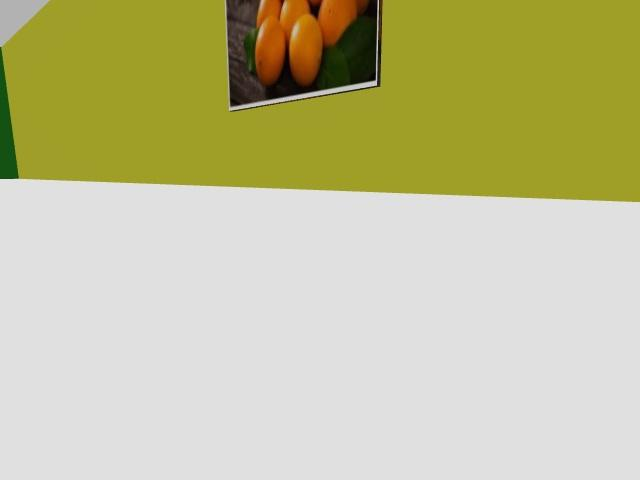orange: (289, 14, 322, 86), (255, 16, 285, 86), (318, 0, 356, 46), (280, 0, 309, 42), (256, 0, 281, 27), (356, 0, 369, 14), (309, 0, 321, 6)
